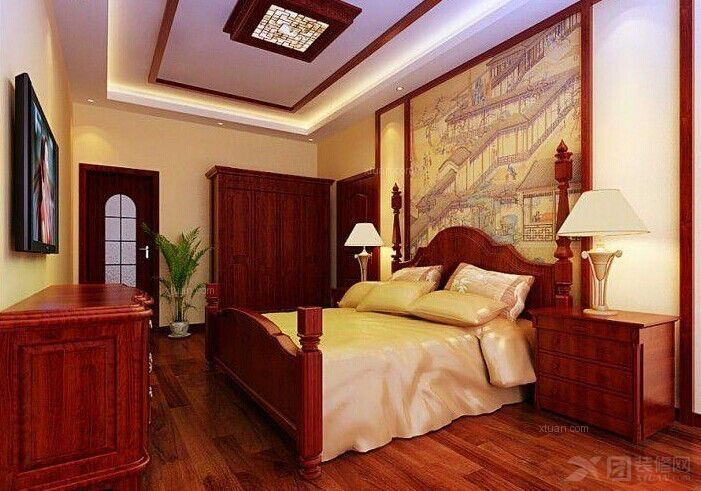床: (199, 294, 562, 450)
枕头: (356, 269, 528, 330)
灯: (560, 185, 647, 313), (218, 4, 352, 71), (342, 219, 385, 285), (391, 84, 403, 93)
